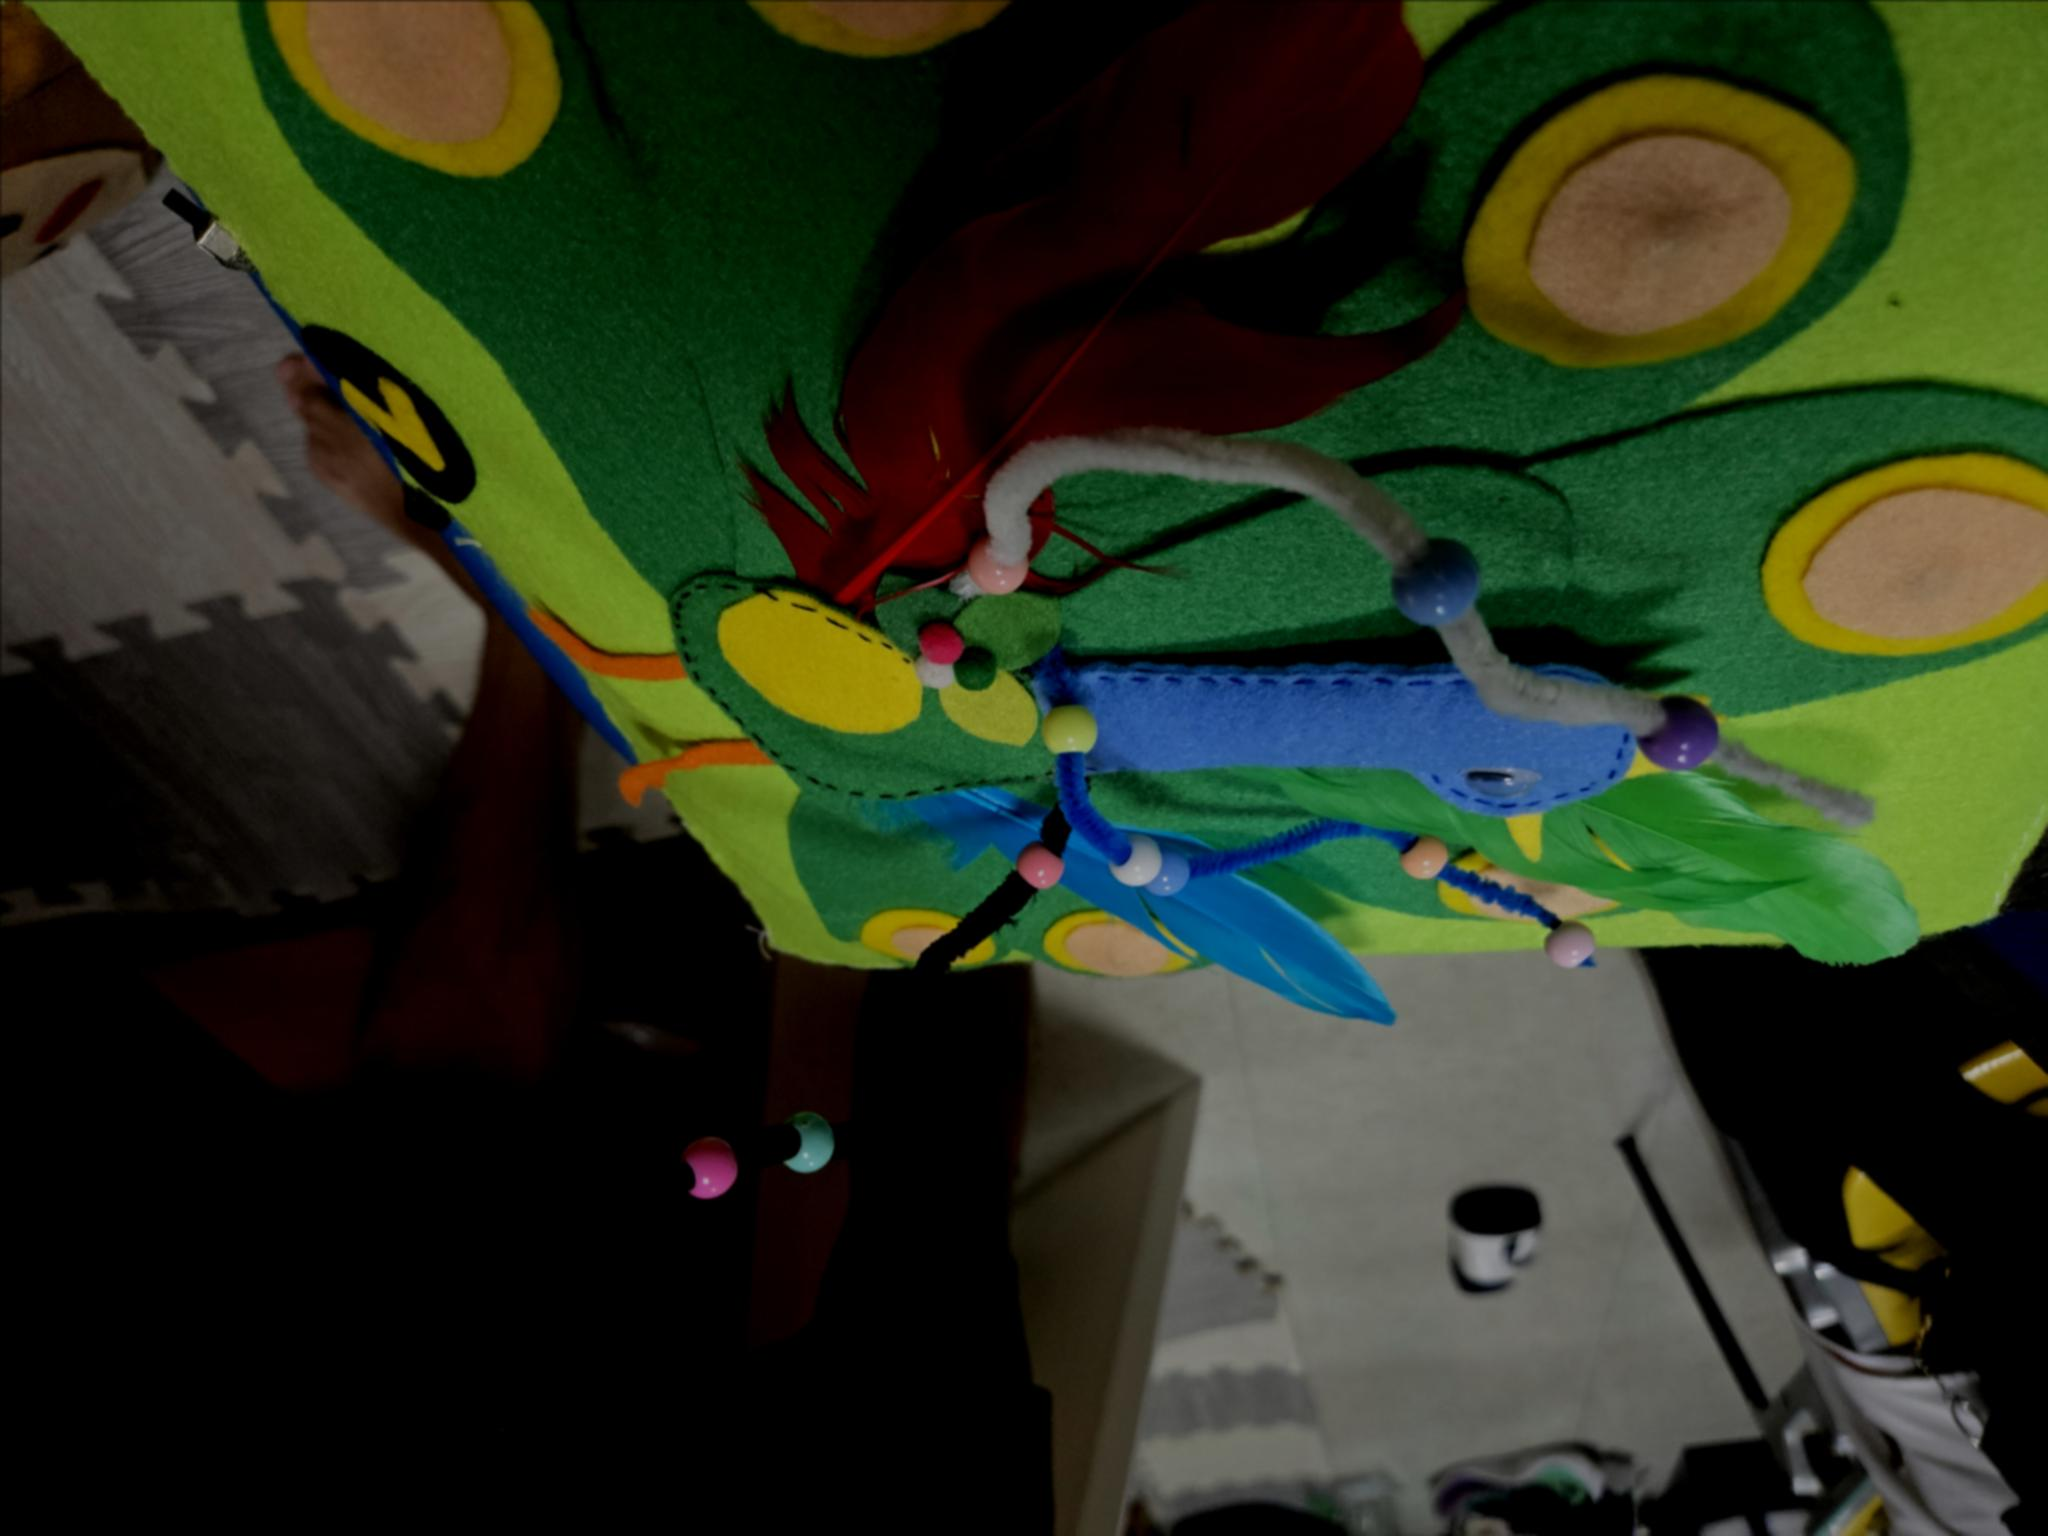bead: (1395, 534, 1479, 621), (1638, 692, 1716, 774), (672, 1134, 742, 1200), (966, 534, 1030, 591), (1006, 842, 1068, 886), (789, 1113, 832, 1170), (1403, 834, 1453, 878), (1546, 916, 1590, 966), (1050, 702, 1098, 744), (1147, 844, 1190, 887), (1119, 839, 1153, 883)
